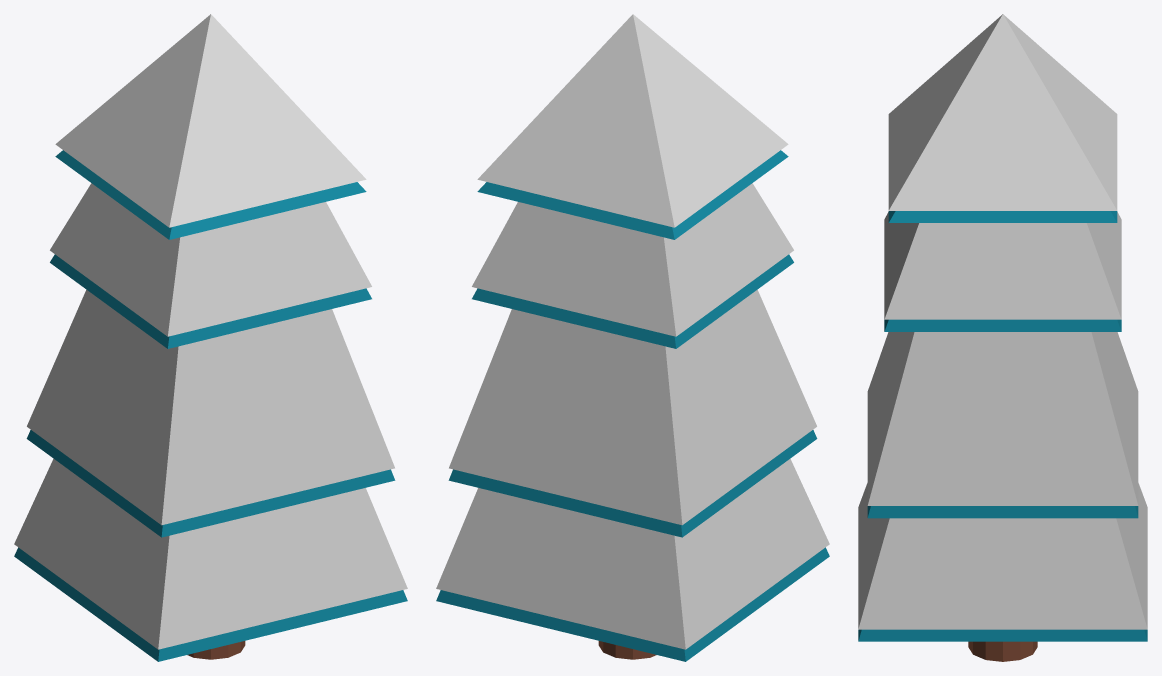
The model's file is Tree_17_winter_blue_mat.fbx.
3 renders of one model, left to right at view 1: azimuth 30°, elevation 25°; view 2: azimuth 150°, elevation 25°; view 3: azimuth 270°, elevation 25°, orthographic.
Parts seen in each view (by area): view 1: Tree_17_winter_blue_mat; view 2: Tree_17_winter_blue_mat; view 3: Tree_17_winter_blue_mat.
Part boxes in pixels (bbox=[...]): Tree_17_winter_blue_mat: bbox=[14, 14, 407, 661]; Tree_17_winter_blue_mat: bbox=[436, 14, 829, 661]; Tree_17_winter_blue_mat: bbox=[858, 14, 1147, 661].
Bounding box in the file's own units: 65.5 × 158 × 65.5.
